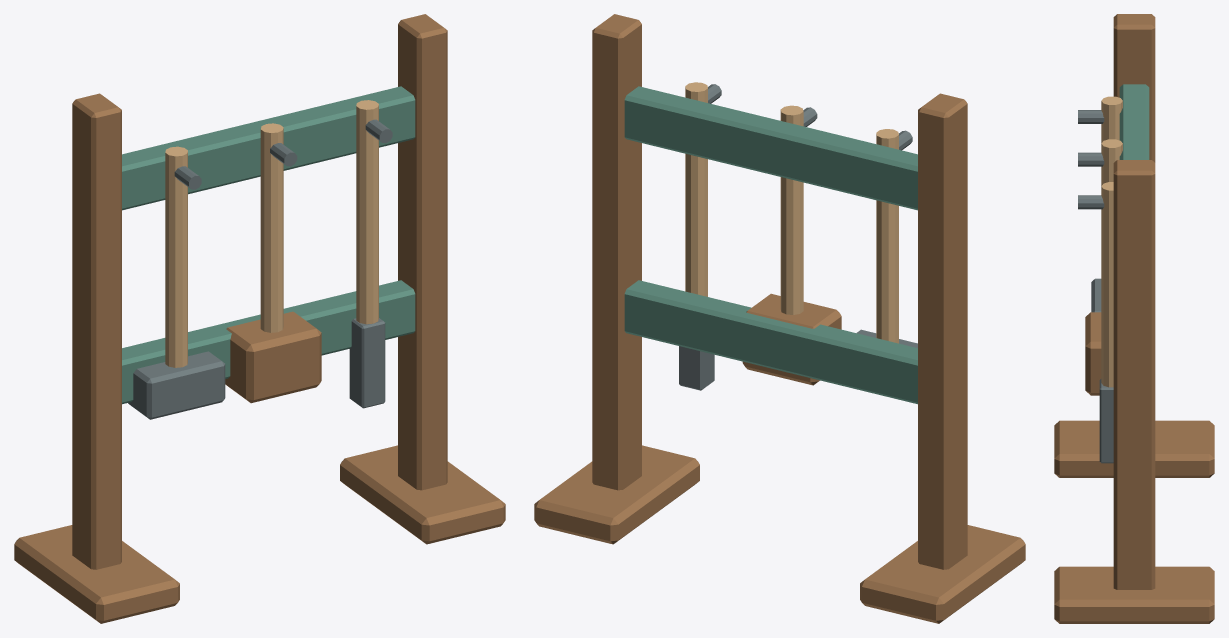
The picture shows the model from 3 angles, left to right: view 1: azimuth 30°, elevation 25°; view 2: azimuth 150°, elevation 25°; view 3: azimuth 270°, elevation 25°; orthographic projection. The views are drawn at different scales.
Parts seen in each view (by area): view 1: village-tool-rack-01; view 2: village-tool-rack-01; view 3: village-tool-rack-01.
Boxes of the visible parts, <box> form: village-tool-rack-01: <box>14,14,505,623</box>; village-tool-rack-01: <box>534,14,1025,623</box>; village-tool-rack-01: <box>1054,14,1214,623</box>.
Size of the model in its own units: 1.46 by 1.64 by 0.54.
